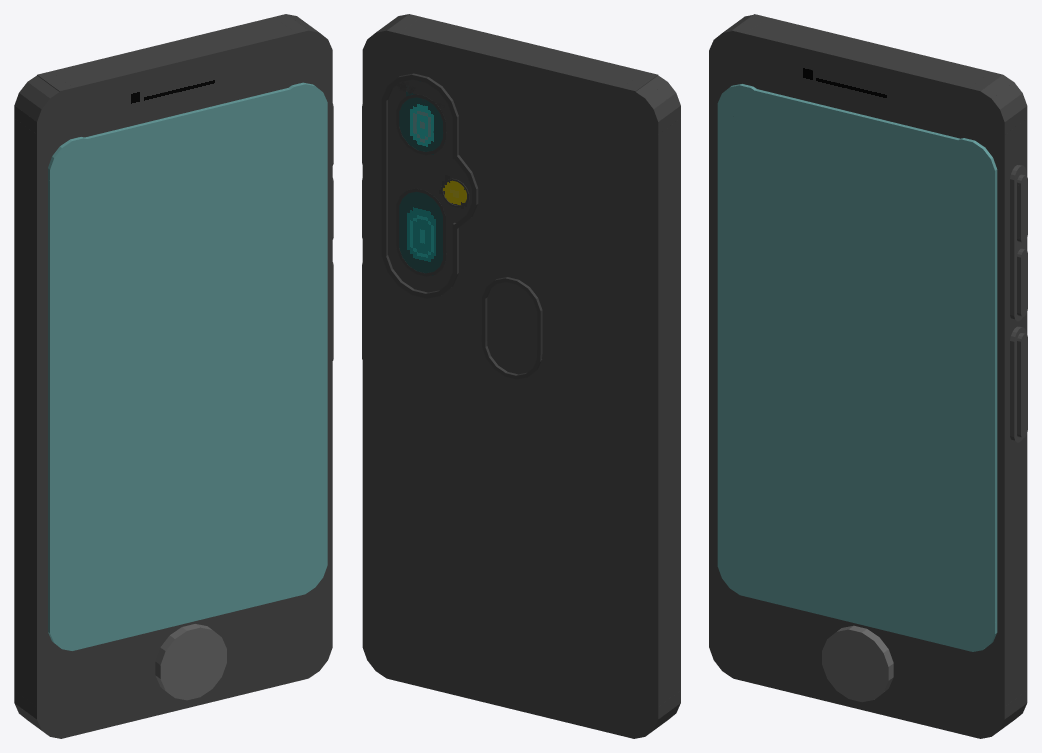
3 renders of one model, left to right at view 1: azimuth 30°, elevation 25°; view 2: azimuth 150°, elevation 25°; view 3: azimuth 330°, elevation 25°, orthographic.
Visible parts, largest first — view 1: cube (×23); view 2: cube (×17); view 3: cube (×40).
Part boxes in pixels (x1=…): cube (×23): x1=14, y1=14, x2=332, y2=738; cube (×17): x1=362, y1=14, x2=680, y2=738; cube (×40): x1=709, y1=14, x2=1027, y2=738.
Bounding box in the file's own units: 2.95 × 6.01 × 0.5015.
1 material, 1 textured.
